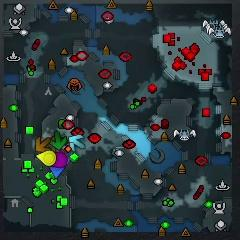p1: (49, 166, 64, 178)
p3: (50, 151, 68, 167)
p4: (36, 150, 55, 167)
x3: (69, 134, 86, 152)
x4: (50, 131, 67, 150)
x5: (35, 136, 53, 152)
